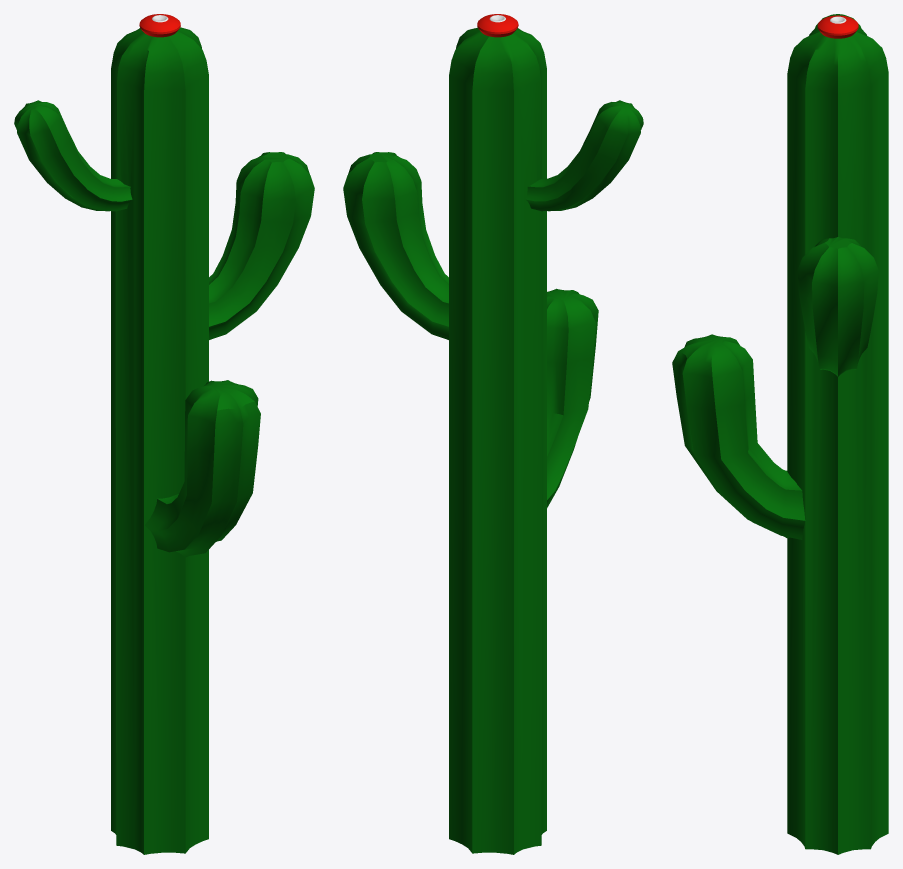
File: FallenSkiesFillerAssetsCactus.fbx
3 views of the same model, side by side, from view 1: azimuth 30°, elevation 25°; view 2: azimuth 150°, elevation 25°; view 3: azimuth 270°, elevation 25° (orthographic).
Visible parts, largest first — view 1: big cactus; view 2: big cactus; view 3: big cactus.
Boxes of the visible parts, x1,y1,x2,y2 form: big cactus: (14,14,314,854); big cactus: (343,14,643,854); big cactus: (672,14,888,854).
Size of the model in its own units: 119 by 315 by 76.04.
